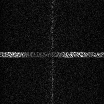wifi: (1, 51, 104, 57)
